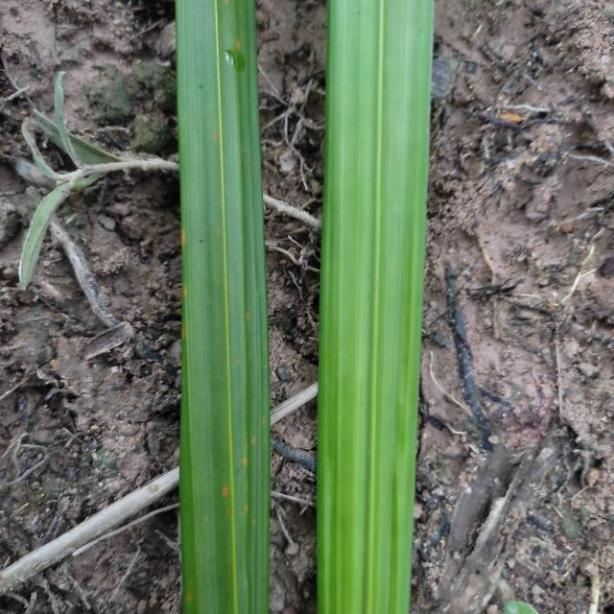nitrogen: (318, 0, 435, 614)
